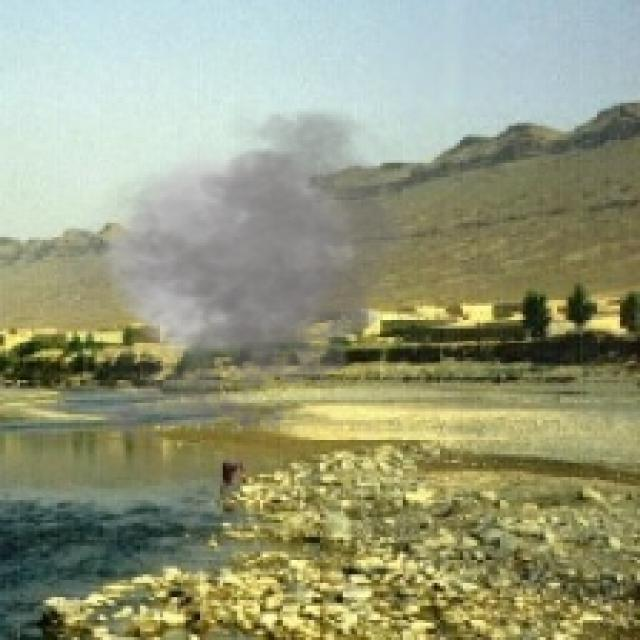smoke: (31, 94, 432, 454)
